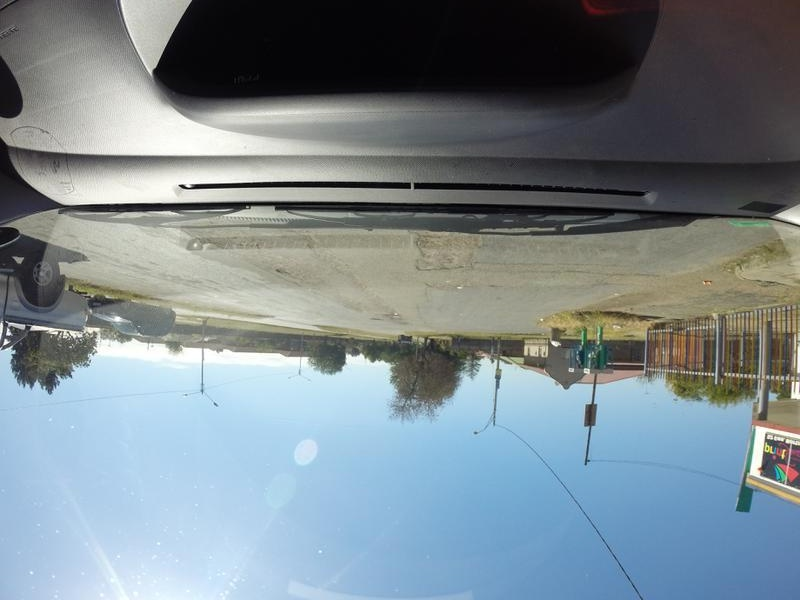pothole: (412, 235, 479, 270), (273, 265, 299, 276), (488, 281, 506, 291), (369, 316, 389, 321)
